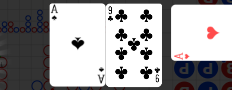4C: (107, 6, 115, 23)
AC: (51, 5, 60, 22)
AH: (174, 52, 192, 61)
